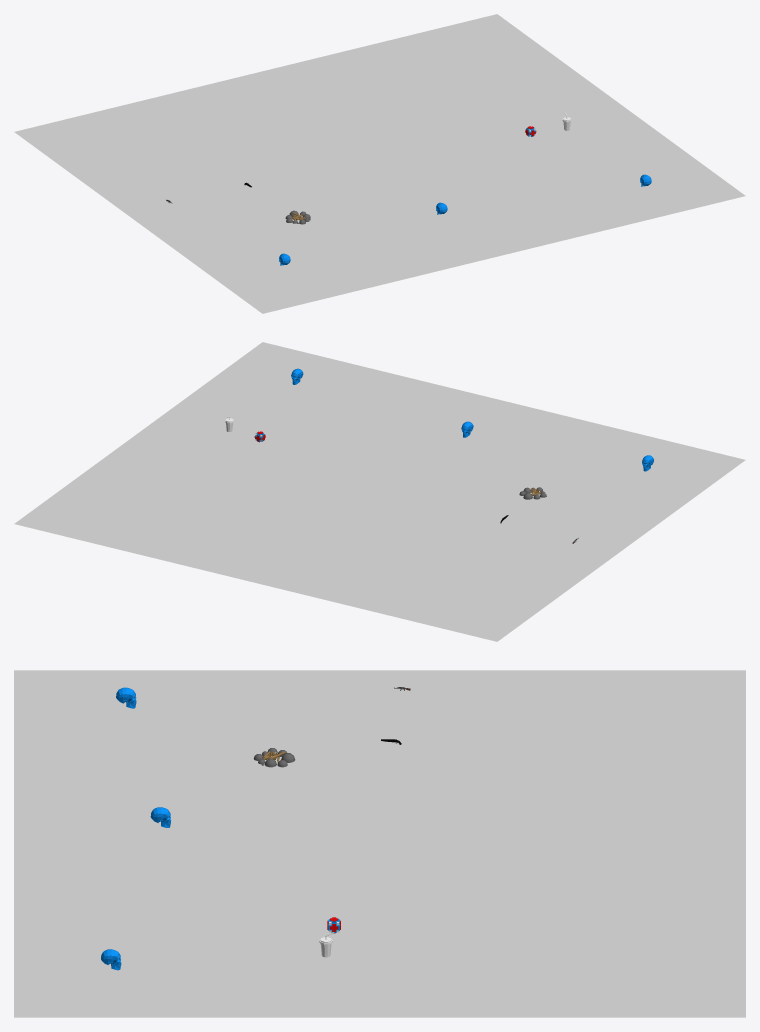
The picture shows the model from 3 angles, top to bottom: view 1: azimuth 30°, elevation 25°; view 2: azimuth 150°, elevation 25°; view 3: azimuth 270°, elevation 25°; orthographic projection. The views are drawn at different scales.
Parts seen in each view (by area): view 1: ground; view 2: ground; view 3: ground.
Boxes of the visible parts, <box> form: ground: <box>14,14,745,313</box>; ground: <box>14,342,745,641</box>; ground: <box>14,670,745,1017</box>.
Size of the model in its own units: 77.32 by 3.47 by 68.9.
49 materials, 1 textured.
